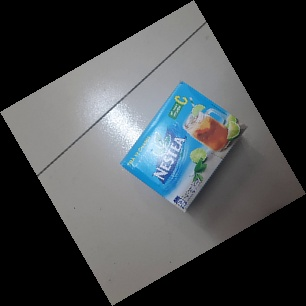Nestea: (119, 80, 251, 214)
